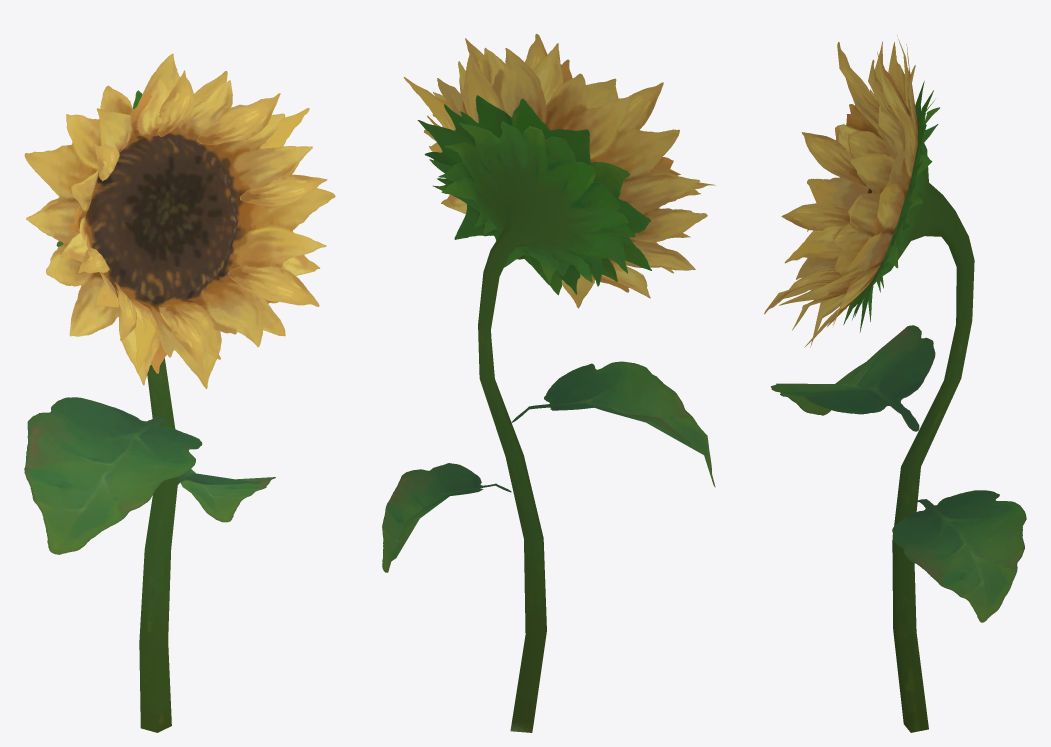
Rendered from Homeworld_General_Common_Thing_Prop_Irodori_MainFlower_10_Mid_Vo.fbx.
3 views of the same model, side by side, from view 1: azimuth 30°, elevation 25°; view 2: azimuth 150°, elevation 25°; view 3: azimuth 270°, elevation 25° (orthographic).
Visible parts, largest first — view 1: Homeworld_General_Common_Thing_Prop_Irodori_MainFlower_10_Vo; view 2: Homeworld_General_Common_Thing_Prop_Irodori_MainFlower_10_Vo; view 3: Homeworld_General_Common_Thing_Prop_Irodori_MainFlower_10_Vo.
Part boxes in pixels (x1,y1,x2,y2): Homeworld_General_Common_Thing_Prop_Irodori_MainFlower_10_Vo: (24,53,335,732); Homeworld_General_Common_Thing_Prop_Irodori_MainFlower_10_Vo: (382,34,715,732); Homeworld_General_Common_Thing_Prop_Irodori_MainFlower_10_Vo: (764,35,1026,732).
Bounding box in the file's own units: 0.1782 × 0.375 × 0.1361.
